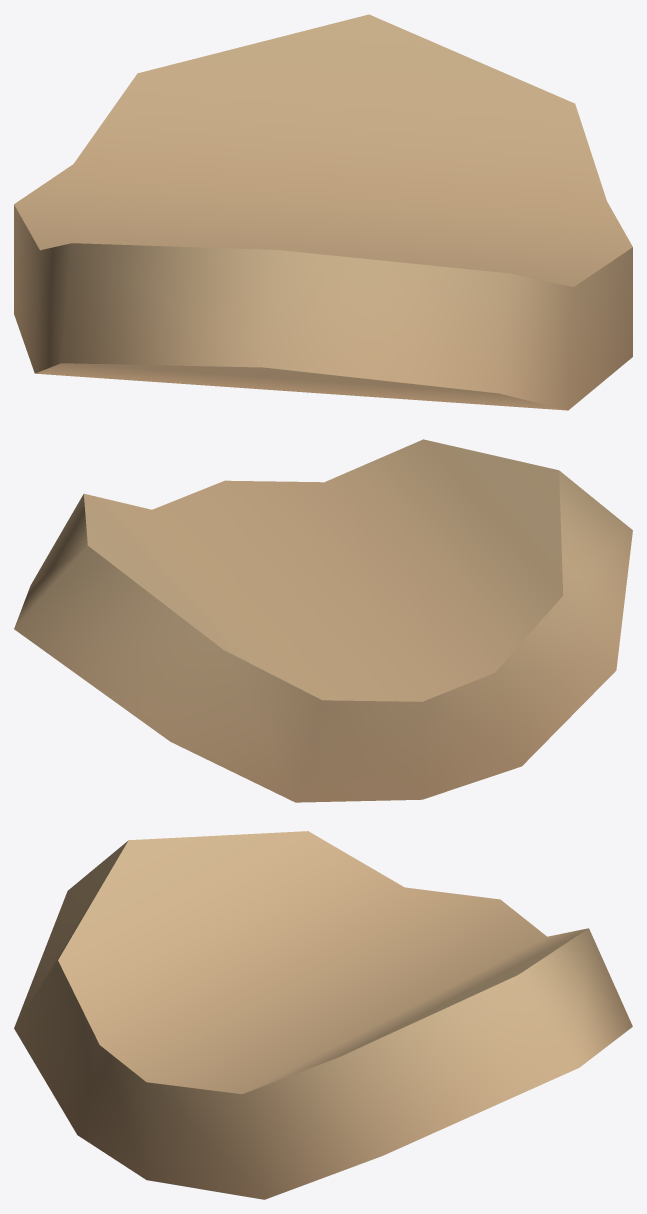
Rendered from (%no-merge) 4.glb.
3 views of the same model, one above another, from view 1: azimuth 30°, elevation 25°; view 2: azimuth 150°, elevation 25°; view 3: azimuth 270°, elevation 25° (orthographic). The views are drawn at different scales.
Parts seen in each view (by area): view 1: (%no-merge) 4; view 2: (%no-merge) 4; view 3: (%no-merge) 4.
Boxes of the visible parts, <box> form: (%no-merge) 4: <box>14,14,632,410</box>; (%no-merge) 4: <box>14,439,632,802</box>; (%no-merge) 4: <box>14,831,632,1199</box>.
Bounding box in the file's own units: 0.1087 × 0.0358 × 0.1108.
